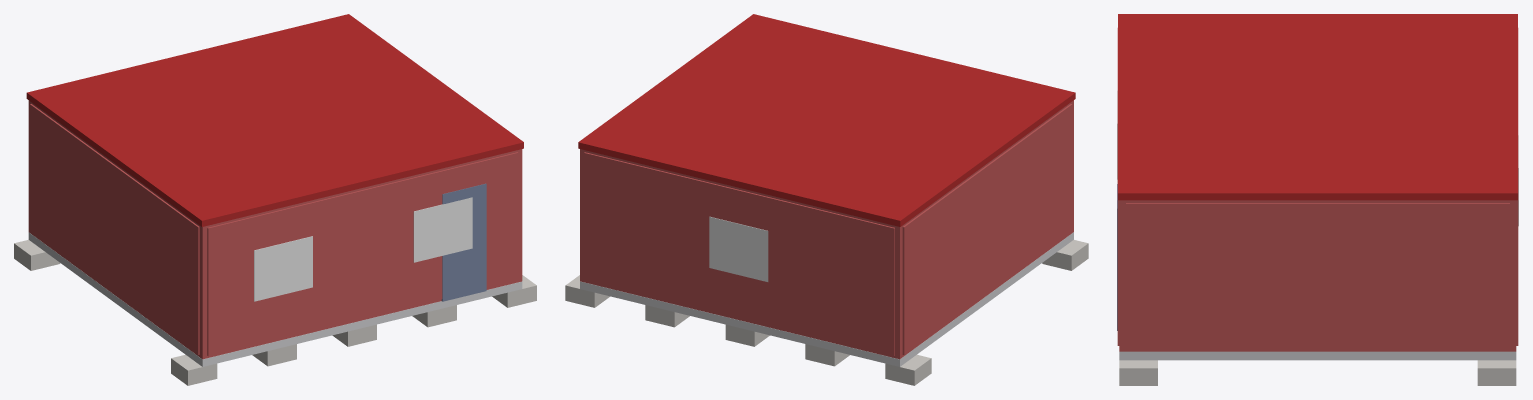
Rendered from Studio-20-Base-CrimsonRed-LOD3.glb.
3 views of the same model, side by side, from view 1: azimuth 30°, elevation 25°; view 2: azimuth 150°, elevation 25°; view 3: azimuth 270°, elevation 25° (orthographic). The views are drawn at different scales.
Visible parts, largest first — view 1: RoofMain, ExteriorPanelsStandard, WindowsStandard, FoundationBlocks, ExteriorShell, BaseFrame, EntryDoor; view 2: ExteriorPanelsStandard, RoofMain, FoundationBlocks, BaseFrame, ExteriorShell, WindowsStandard; view 3: RoofMain, ExteriorPanelsStandard, ExteriorShell, BaseFrame, FoundationBlocks.
Part boxes in pixels (x1,y1,x2,y2): RoofMain: [26, 14, 523, 226]; ExteriorPanelsStandard: [30, 104, 518, 355]; WindowsStandard: [254, 197, 472, 301]; FoundationBlocks: [14, 240, 536, 385]; ExteriorShell: [28, 100, 522, 359]; BaseFrame: [28, 232, 522, 366]; EntryDoor: [441, 183, 486, 301]; ExteriorPanelsStandard: [584, 104, 1072, 355]; RoofMain: [578, 14, 1075, 226]; FoundationBlocks: [565, 240, 1088, 385]; BaseFrame: [580, 232, 1073, 366]; ExteriorShell: [580, 100, 1073, 359]; WindowsStandard: [709, 216, 768, 281]; RoofMain: [1118, 14, 1517, 200]; ExteriorPanelsStandard: [1117, 28, 1518, 349]; ExteriorShell: [1119, 200, 1516, 351]; BaseFrame: [1119, 351, 1516, 360]; FoundationBlocks: [1119, 360, 1516, 385].
Bounding box in the file's own units: 7.14 × 3.17 × 6.24.
